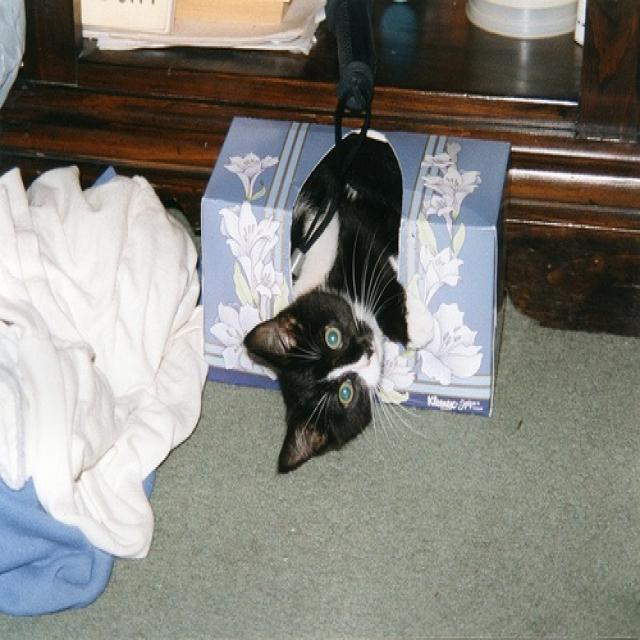cat: (242, 126, 435, 478)
